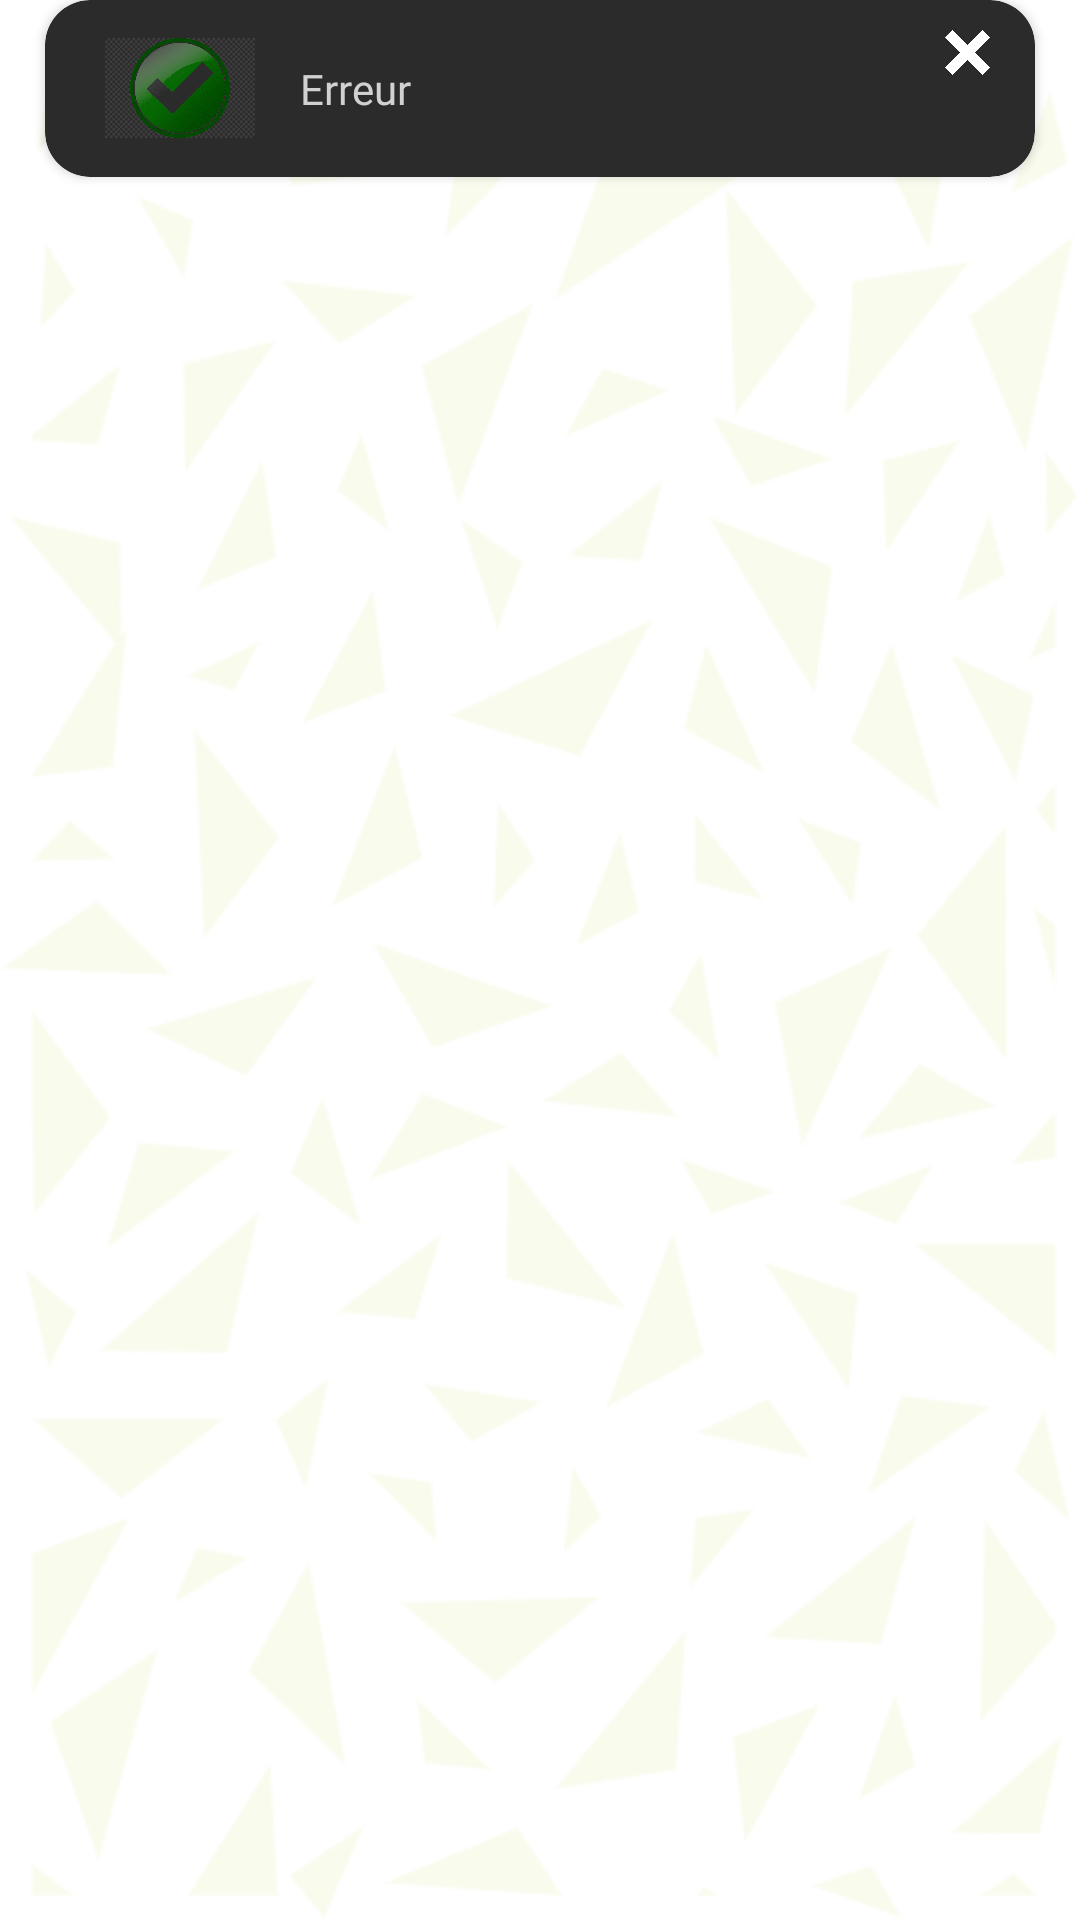

Screen size 1080x1920. Icon name, then its box in pixels as (x1, y1, x2, y2):
close: (945, 30, 990, 75)
success: (130, 38, 230, 138)
